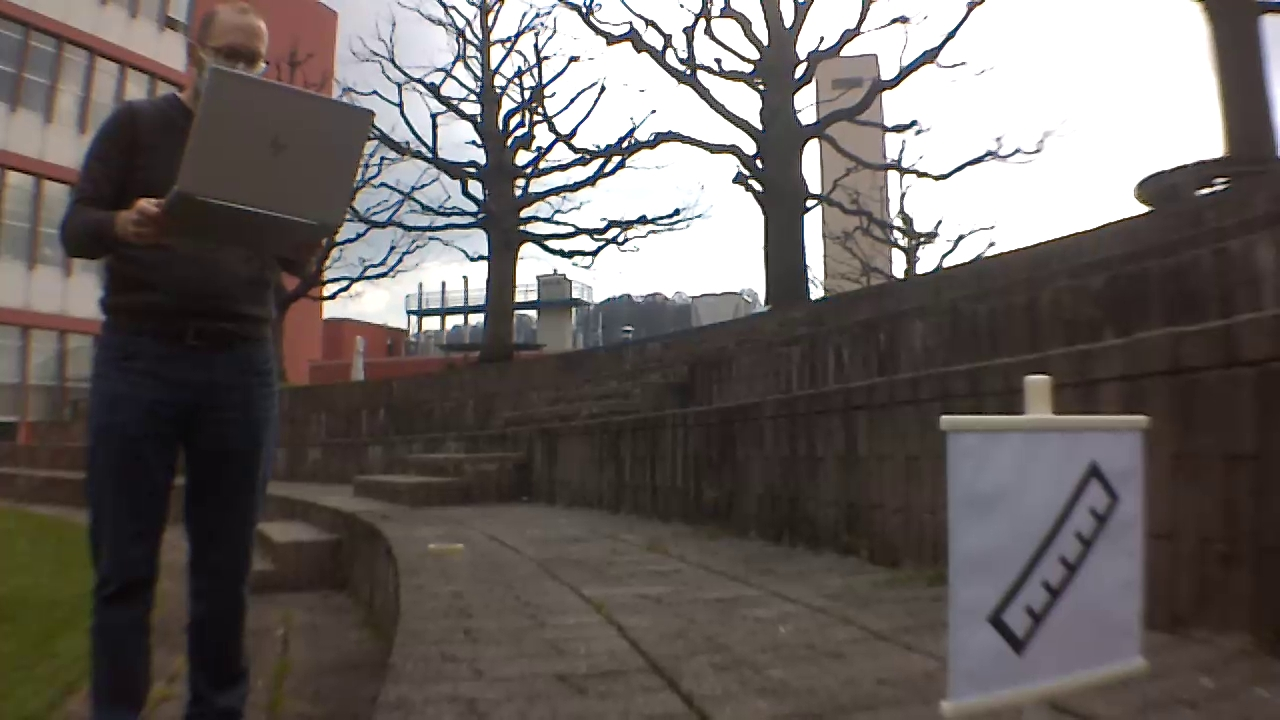ruler: (985, 461, 1131, 653)
